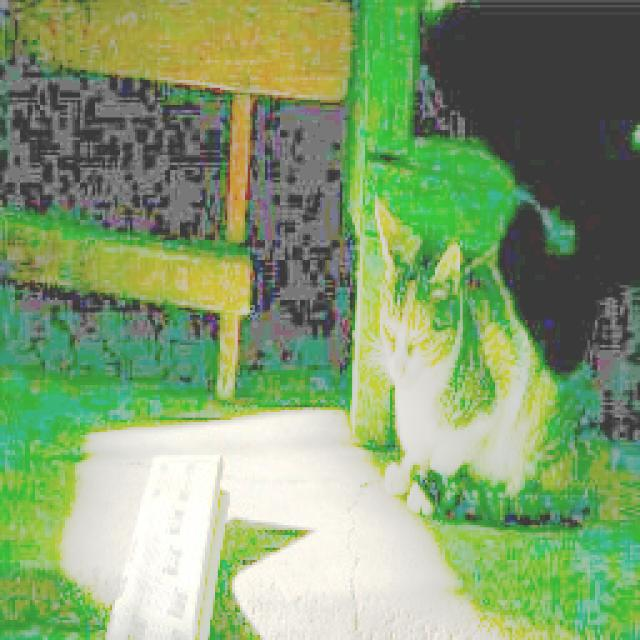cat: (343, 187, 631, 541)
